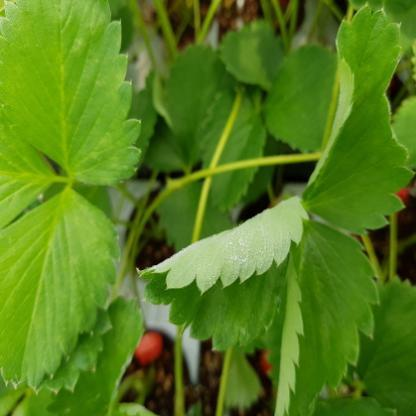Strawberry_Powdery_Mildew_Leaf: (134, 195, 309, 352)
